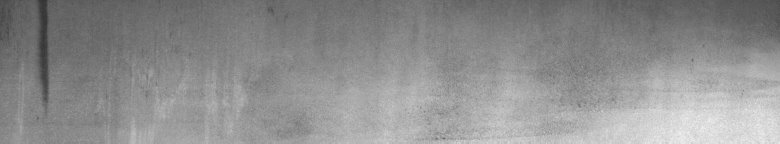hd: (32, 4, 52, 102)
